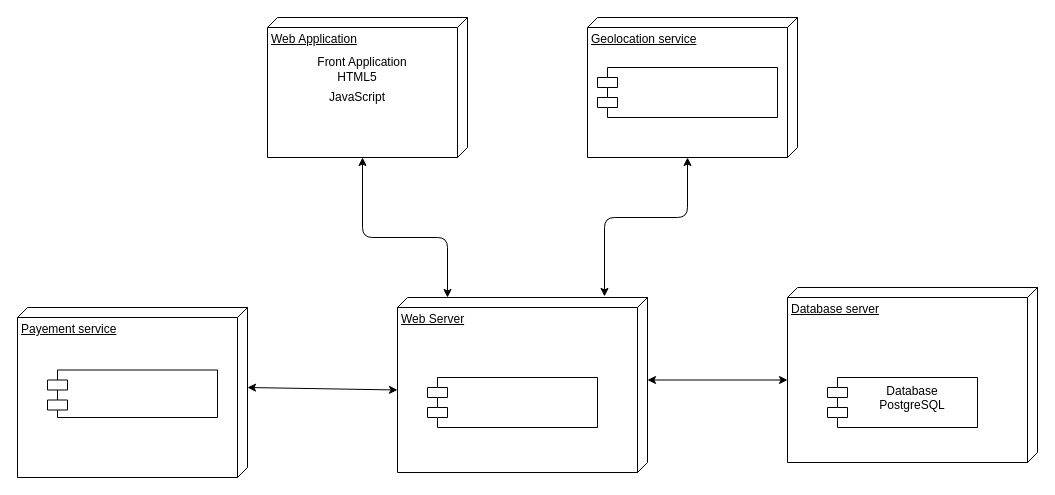
This 1055x495 diagram has some shape labels left out. The centre of each missing label's shape, as x and y in pixels:
"Back-end Application Python Django" belongs at [512,402].
"Geolocation management Google Maps" belongs at [687,92].
"Payement management" belongs at [132,393].
